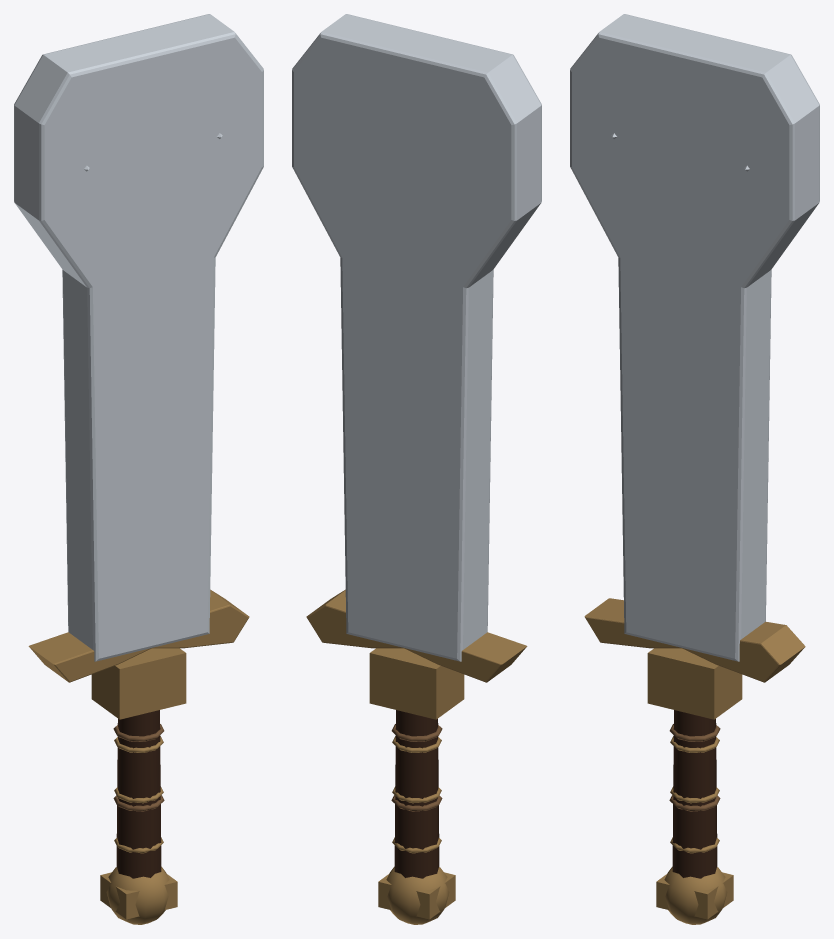
The model's file is greatsword_f1_15516c6e.glb.
3 renders of one model, left to right at view 1: azimuth 30°, elevation 25°; view 2: azimuth 150°, elevation 25°; view 3: azimuth 330°, elevation 25°, orthographic.
Visible parts, largest first — view 1: m2_ow80_, m3_ow80_, m1_ow80_, m4_ow80_; view 2: m2_ow80_, m3_ow80_, m1_ow80_, m4_ow80_; view 3: m2_ow80_, m3_ow80_, m1_ow80_, m4_ow80_.
Boxes of the visible parts, x1,y1,x2,y2 form: m2_ow80_: (14, 14, 263, 661); m3_ow80_: (28, 589, 249, 924); m1_ow80_: (116, 710, 161, 878); m4_ow80_: (113, 724, 164, 811); m2_ow80_: (292, 14, 541, 661); m3_ow80_: (306, 589, 527, 924); m1_ow80_: (394, 710, 439, 878); m4_ow80_: (391, 724, 442, 811); m2_ow80_: (570, 14, 819, 661); m3_ow80_: (584, 598, 805, 924); m1_ow80_: (672, 710, 717, 878); m4_ow80_: (669, 724, 720, 811).
Size of the model in its own units: 0.744 by 2.78 by 0.1856.
